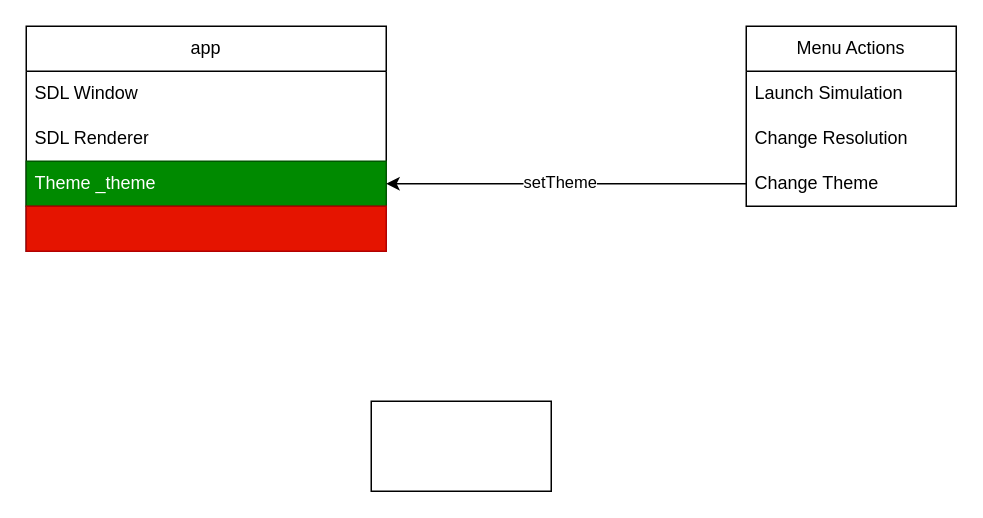
The diagram is 983 pixels wide and 518 high, and some of its shapes have lost their labels. Each missing label, with the centre of its shape:
"MenuTree _menu" belongs at (x=205, y=228).
"Root" belongs at (x=460, y=445).
